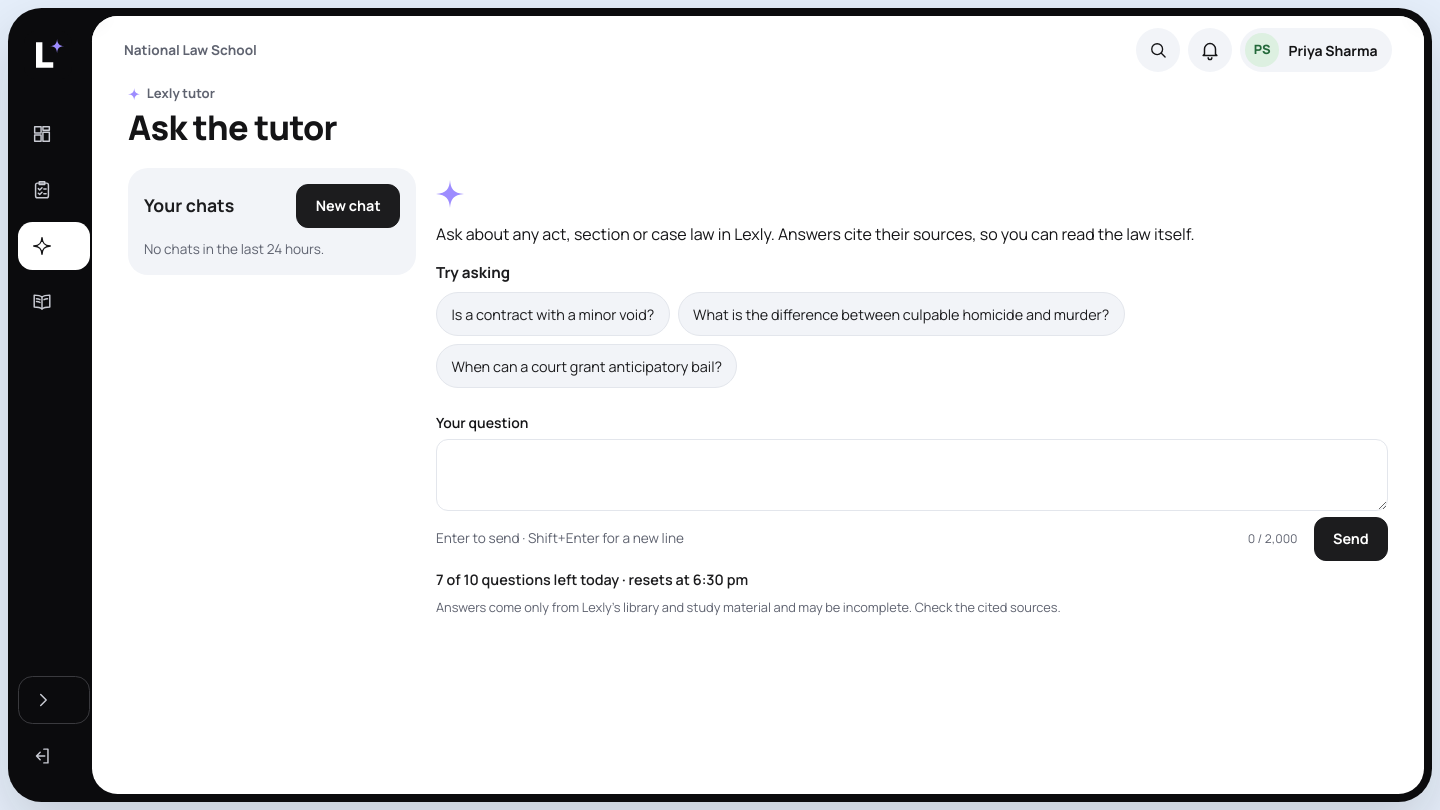
Scenario: tutor (F5a.3) › fills the composer from an example question
Click the button "When can a court grant anticipatory bail?": point(587, 366) [436,344,738,388]
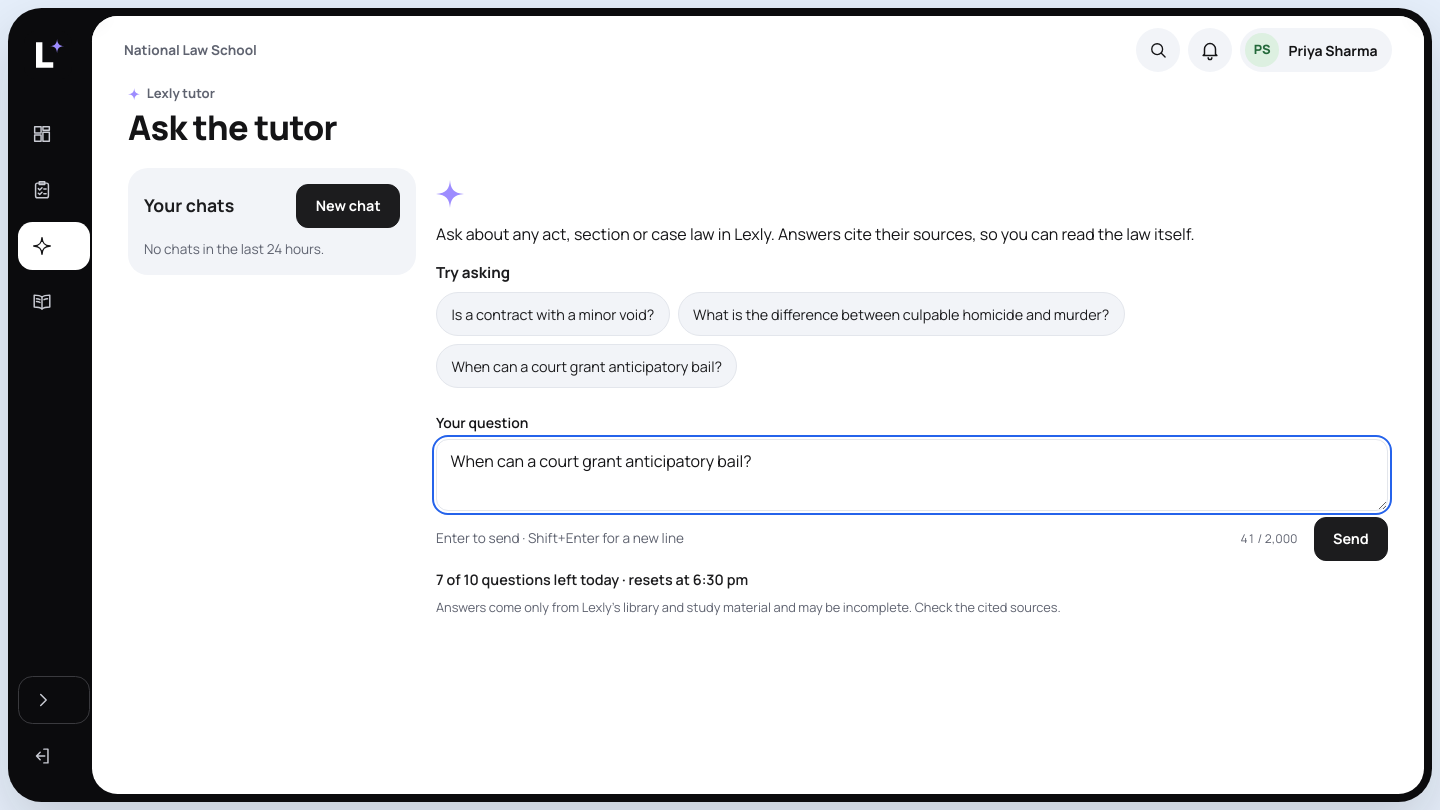
Now the text box labelled "Your question" holds "When can a court grant anticipatory bail?", box [436,439,1388,511]
